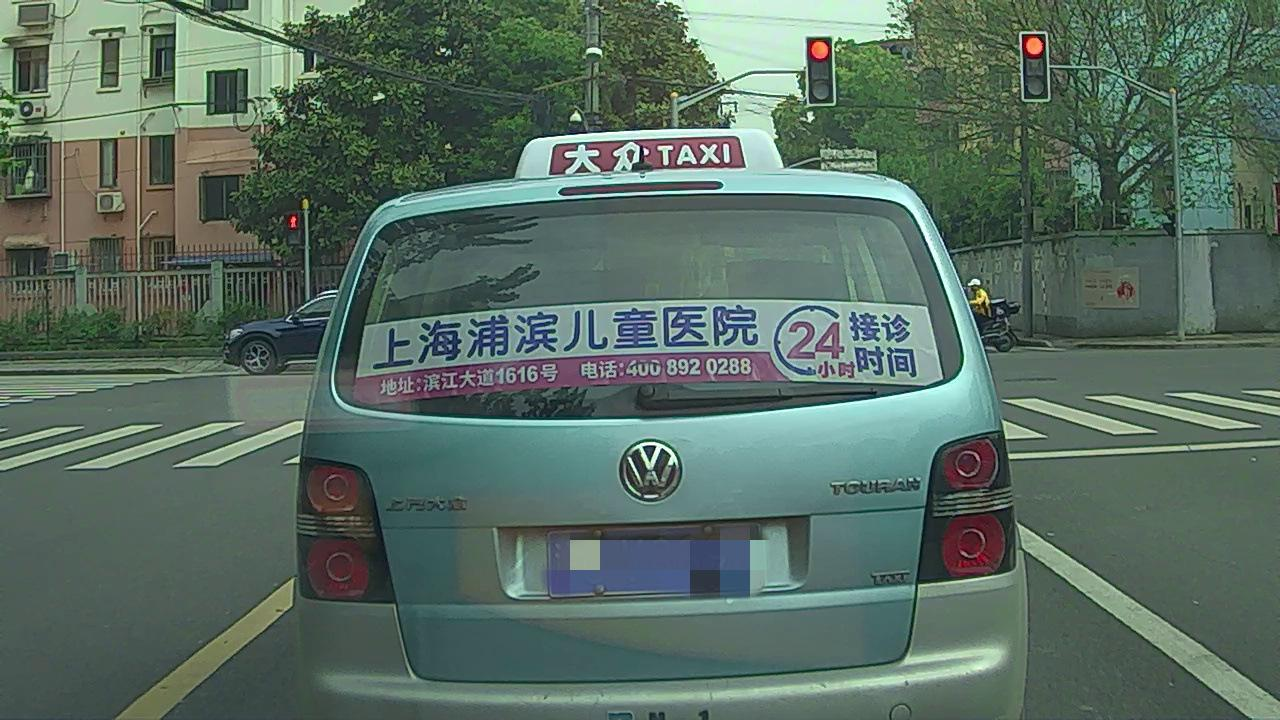traffic_light: (806, 39, 835, 104), (1026, 31, 1051, 102)
